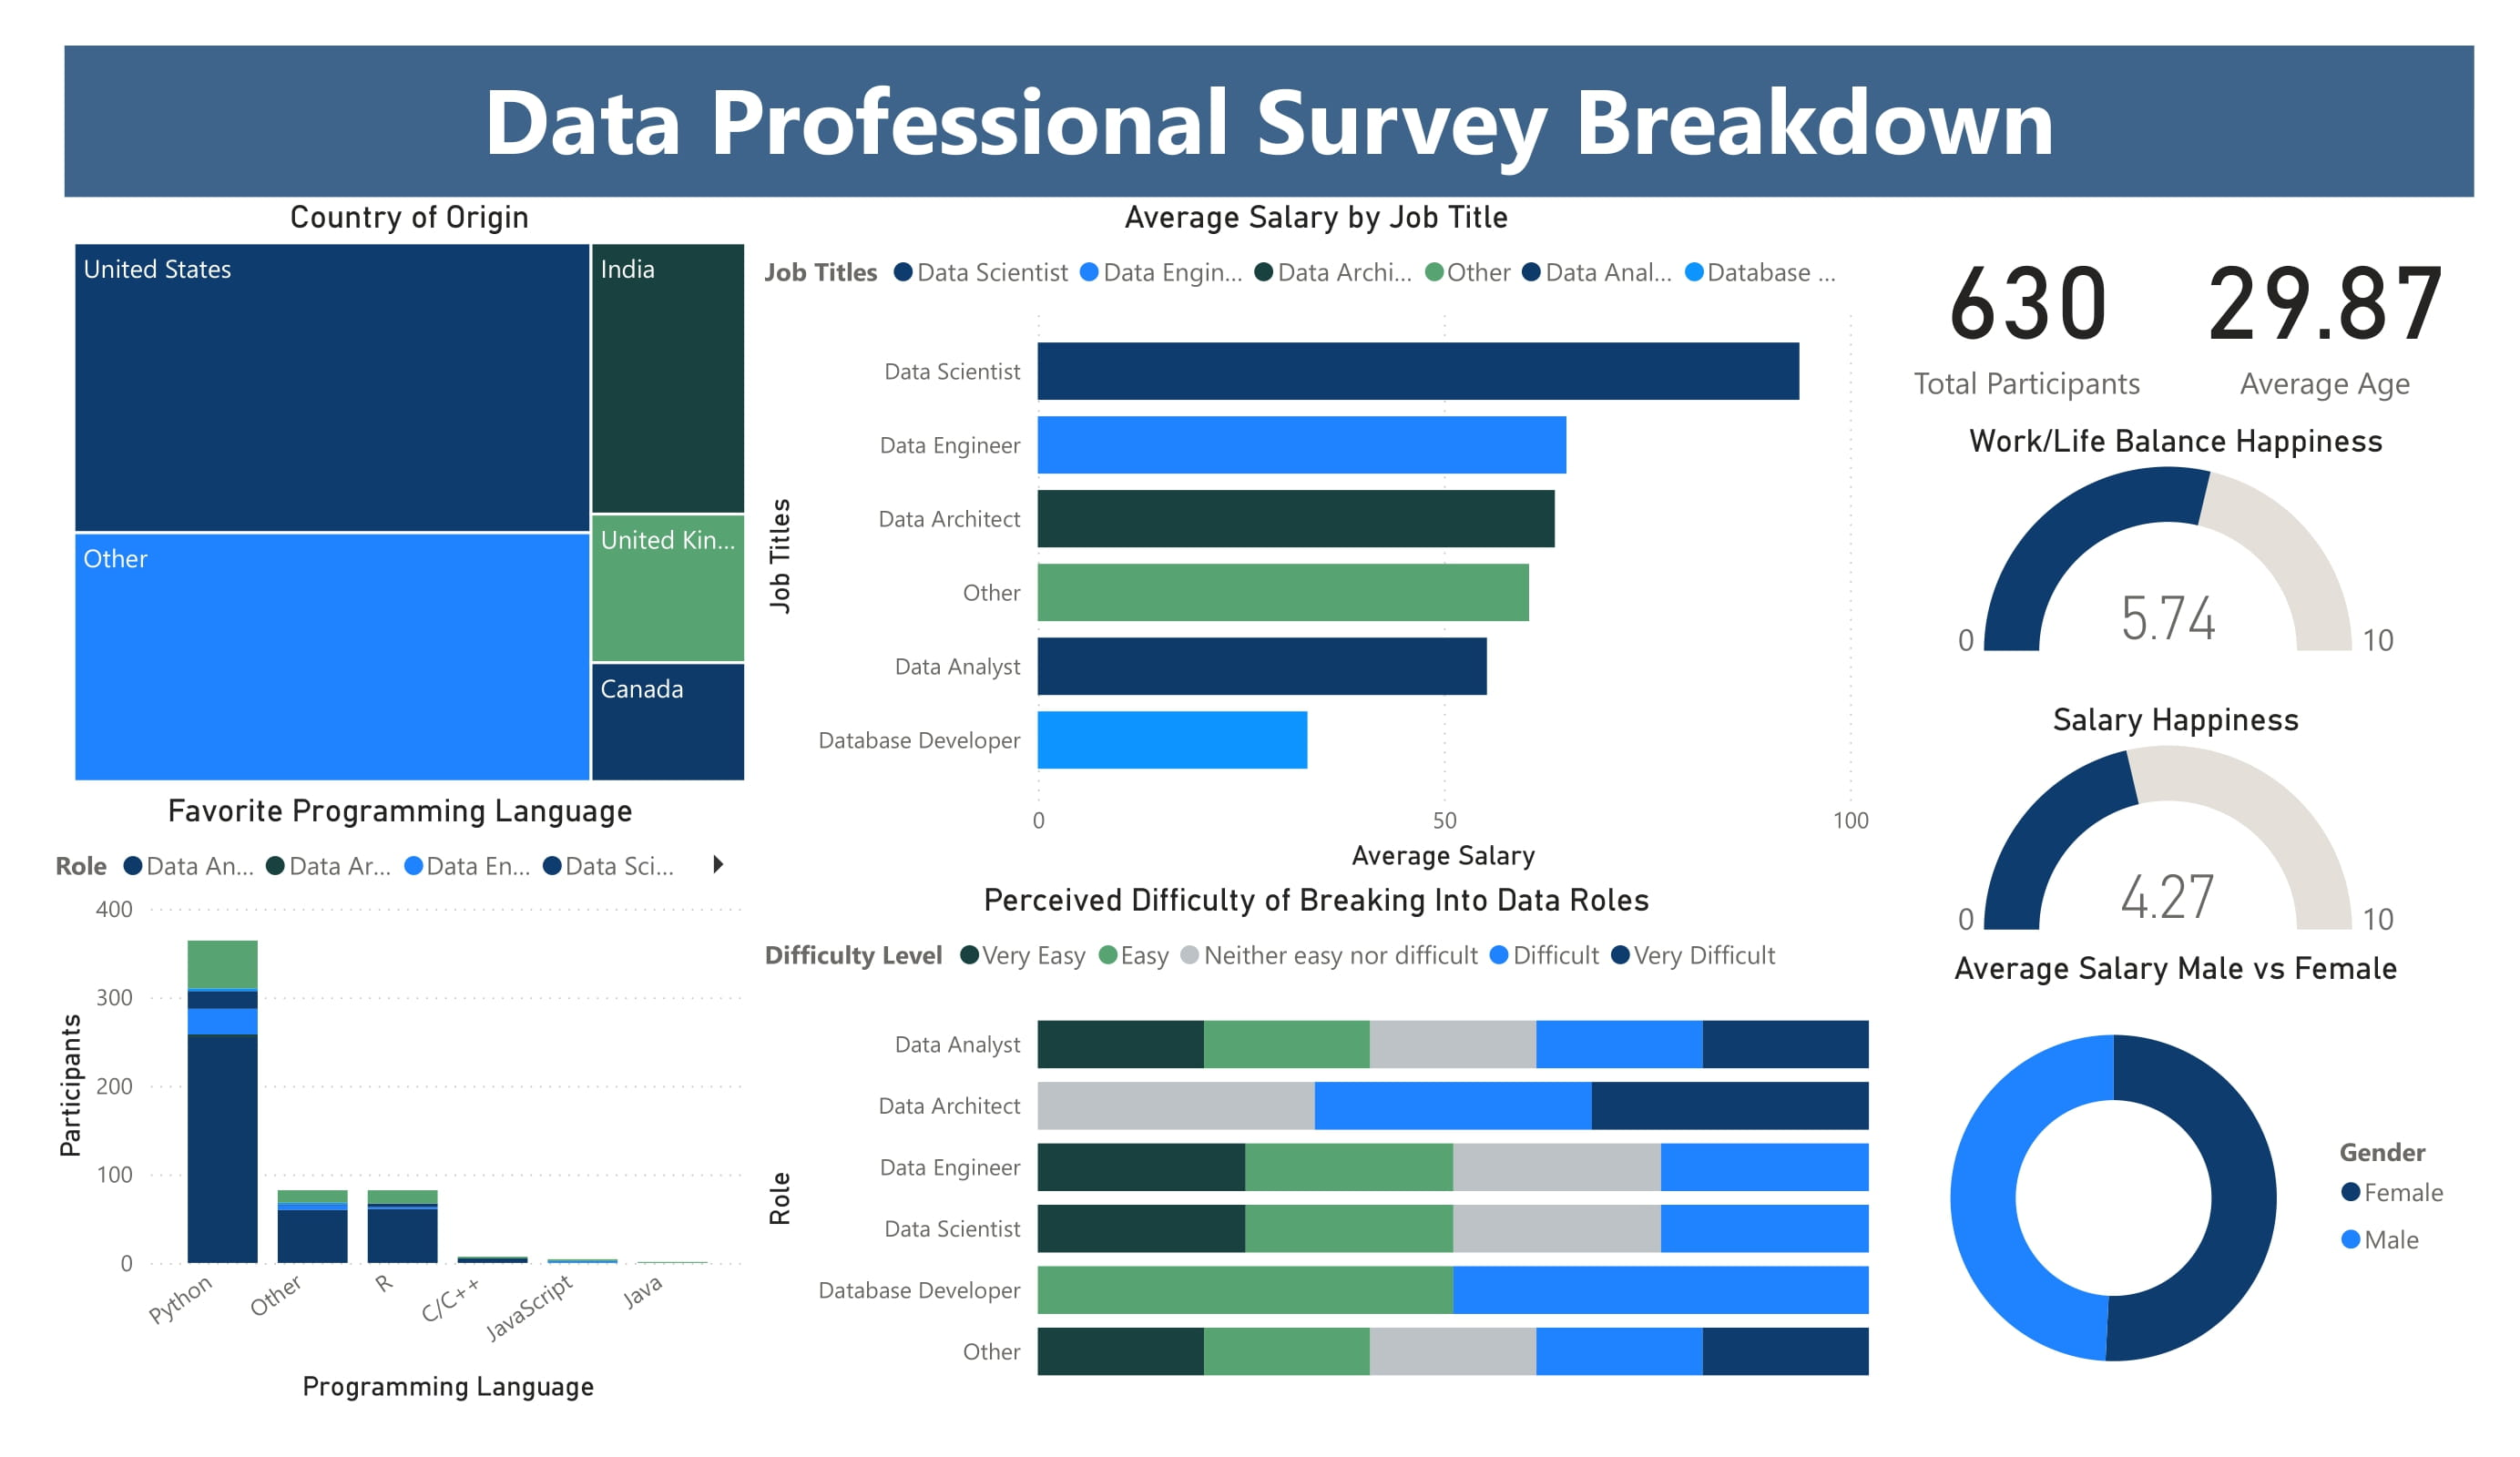

The page's visual inventory and layout, read from the dashboard file:
{"tool":"powerbi","page":{"name":"Page 1","canvas":[1280,720],"ordinal":0},"visuals":[{"type":"textbox","box":[10,0,1270,80],"z":0},{"type":"card","fields":{"Values":["Count(Data Professional Survey.Unique ID)"]},"box":[966,80,157,118],"z":1000},{"type":"card","fields":{"Values":["Avg(Data Professional Survey.Q10 - Current Age)"]},"box":[1123,80,157,118],"z":2000},{"type":"barChart","title":"Average Salary by Job Title","fields":{"Category":["Data Professional Survey.Q1 - Which Title Best Fits your Current Role?.1"],"Y":["Avg(Data Professional Survey.Average Salary)"],"Series":["Data Professional Survey.Q1 - Which Title Best Fits your Current Role?.1"]},"box":[374,80,592,360],"z":3000},{"type":"columnChart","title":"Favorite Programming Language","fields":{"Category":["Data Professional Survey.Q5 - Favorite Programming Language.1"],"Y":["CountNonNull(Data Professional Survey.Unique ID)"],"Series":["Data Professional Survey.Q1 - Which Title Best Fits your Current Role?.1"]},"box":[0,393,374,327],"z":4000},{"type":"treemap","title":"Country of Origin","fields":{"Group":["Data Professional Survey.Q11 - Which Country do you live in?.1"],"Values":["CountNonNull(Data Professional Survey.Q11 - Which Country do you live in?.1)"]},"box":[10,80,364,313],"z":5000},{"type":"gauge","title":"Work/Life Balance Happiness","fields":{"Y":["Avg(Data Professional Survey.Q6 - How Happy are you in your Current Position with the following? (Work/Life Balance))"],"MinValue":["Min(Data Professional Survey.Q6 - How Happy are you in your Current Position with the following? (Work/Life Balance))1"],"MaxValue":["Max(Data Professional Survey.Q6 - How Happy are you in your Current Position with the following? (Work/Life Balance))2"]},"box":[966,198,314,131],"z":6000},{"type":"gauge","title":"Salary Happiness","fields":{"Y":["Avg(Data Professional Survey.Q6 - How Happy are you in your Current Position with the following? (Salary))"],"MinValue":["Min(Data Professional Survey.Q6 - How Happy are you in your Current Position with the following? (Salary))"],"MaxValue":["Max(Data Professional Survey.Q6 - How Happy are you in your Current Position with the following? (Salary))"]},"box":[966,345,314,131],"z":7000},{"type":"donutChart","title":"Average Salary Male vs Female","fields":{"Category":["Data Professional Survey.Q9 - Male/Female?"],"Y":["Avg(Data Professional Survey.Average Salary)"]},"box":[966,476,314,244],"z":8000},{"type":"hundredPercentStackedBarChart","title":"Perceived Difficulty of Breaking Into Data Roles","fields":{"Category":["Data Professional Survey.Q1 - Which Title Best Fits your Current Role?.1"],"Y":["CountNonNull(DifficultyMapping.Difficulty Level)"],"Series":["DifficultyMapping.Difficulty Level"]},"box":[374,440,592,280],"z":9000}]}

Visuals, with their boxes in screenshot pixels (x1, y1, x2, y2):
textbox: {"x1": 65, "y1": 46, "x2": 2474, "y2": 198}
card - Count(Data Professional Survey.Unique ID): {"x1": 1879, "y1": 198, "x2": 2177, "y2": 422}
card - Avg(Data Professional Survey.Q10 - Current Age): {"x1": 2177, "y1": 198, "x2": 2474, "y2": 422}
"Average Salary by Job Title" barChart: {"x1": 755, "y1": 198, "x2": 1879, "y2": 881}
"Favorite Programming Language" columnChart: {"x1": 46, "y1": 791, "x2": 755, "y2": 1411}
"Country of Origin" treemap: {"x1": 65, "y1": 198, "x2": 755, "y2": 791}
"Work/Life Balance Happiness" gauge: {"x1": 1879, "y1": 422, "x2": 2474, "y2": 669}
"Salary Happiness" gauge: {"x1": 1879, "y1": 700, "x2": 2474, "y2": 949}
"Average Salary Male vs Female" donutChart: {"x1": 1879, "y1": 949, "x2": 2474, "y2": 1411}
"Perceived Difficulty of Breaking Into Data Roles" hundredPercentStackedBarChart: {"x1": 755, "y1": 881, "x2": 1879, "y2": 1411}
